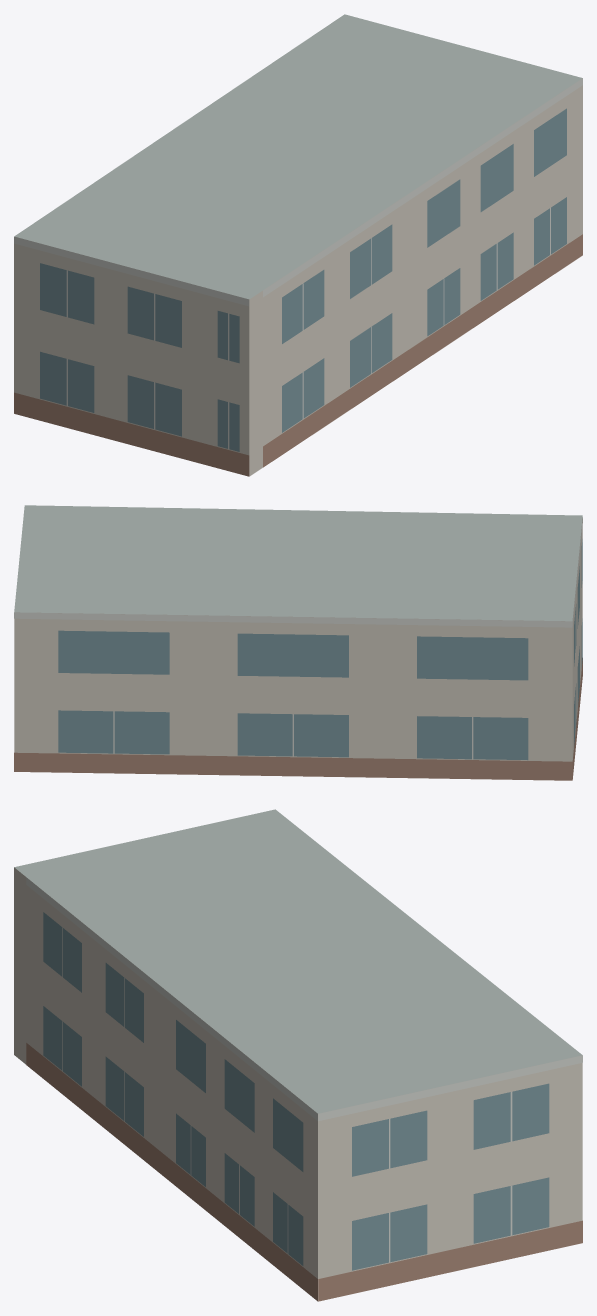
Rendered from survey-upis-32706527.glb.
3 renders of one model, top to bottom at view 1: azimuth 30°, elevation 25°; view 2: azimuth 150°, elevation 25°; view 3: azimuth 270°, elevation 25°, orthographic. The views are drawn at different scales.
Visible parts, largest first — view 1: survey-upis-32706527.tmp; view 2: survey-upis-32706527.tmp; view 3: survey-upis-32706527.tmp.
Boxes of the visible parts, bbox=[...] form: survey-upis-32706527.tmp: bbox=[14, 14, 582, 476]; survey-upis-32706527.tmp: bbox=[14, 505, 582, 780]; survey-upis-32706527.tmp: bbox=[14, 809, 582, 1301].
Bounding box in the file's own units: 21.22 × 6.1 × 16.75.
